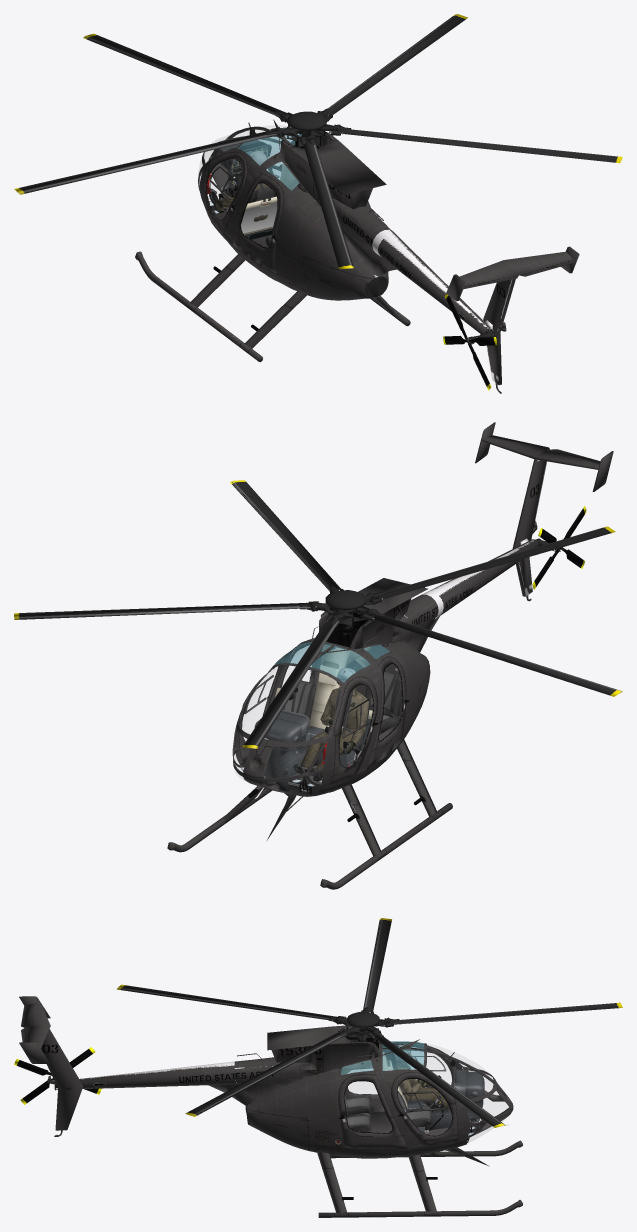
3 views of the same model, one above another, from view 1: azimuth 30°, elevation 25°; view 2: azimuth 150°, elevation 25°; view 3: azimuth 270°, elevation 25° (orthographic). The views are drawn at different scales.
Parts seen in each view (by area): view 1: ext_fuse1, rotor_main, int_fuse, ext_fuse1_doors, ext_fuse1_skids, ixt_seats, glasss_grn, ixt_console, rotor_tail, ixt_pilotR; view 2: ext_fuse1, rotor_main, ext_fuse1_doors, ext_fuse1_skids, int_fuse, ixt_console, ixt_seats, ixt_pilotR, glasss_grn, ixt_seats2, ixt_seats1, glass (+1 smaller); view 3: ext_fuse1, rotor_main, ext_fuse1_doors, int_fuse, ext_fuse1_skids, glass, ixt_console, glasss_grn, ixt_seats2, ixt_pilotR, rotor_tail, ixt_seats1 (+2 smaller).
Part boxes in pixels (left/top/right/bottom): ext_fuse1: left=198, top=119, right=579, bottom=393; rotor_main: left=14, top=14, right=622, bottom=269; int_fuse: left=198, top=128, right=388, bottom=300; ext_fuse1_doors: left=204, top=152, right=283, bottom=273; ext_fuse1_skids: left=135, top=251, right=410, bottom=362; ixt_seats: left=233, top=163, right=299, bottom=239; glasss_grn: left=238, top=128, right=301, bottom=190; ixt_console: left=207, top=139, right=271, bottom=194; rotor_tail: left=443, top=294, right=497, bottom=390; ixt_pilotR: left=209, top=150, right=277, bottom=221; ext_fuse1: left=233, top=422, right=613, bottom=840; rotor_main: left=14, top=480, right=622, bottom=748; ext_fuse1_doors: left=239, top=642, right=409, bottom=783; ext_fuse1_skids: left=167, top=739, right=452, bottom=889; int_fuse: left=232, top=640, right=430, bottom=794; ixt_console: left=254, top=709, right=326, bottom=791; ixt_seats: left=275, top=644, right=372, bottom=767; ixt_pilotR: left=293, top=668, right=369, bottom=781; glasss_grn: left=274, top=638, right=389, bottom=682; ixt_seats2: left=345, top=662, right=402, bottom=734; ixt_seats1: left=283, top=680, right=369, bottom=753; glass: left=234, top=666, right=310, bottom=781; ext_fuse1: left=19, top=996, right=513, bottom=1166; rotor_main: left=117, top=918, right=622, bottom=1127; ext_fuse1_doors: left=338, top=1043, right=458, bottom=1149; int_fuse: left=245, top=1042, right=511, bottom=1158; ext_fuse1_skids: left=317, top=1140, right=522, bottom=1217; glass: left=348, top=1044, right=508, bottom=1143; ixt_console: left=425, top=1069, right=484, bottom=1132; glasss_grn: left=341, top=1041, right=424, bottom=1074; ixt_seats2: left=344, top=1092, right=371, bottom=1132; ixt_pilotR: left=394, top=1043, right=449, bottom=1108; rotor_tail: left=14, top=1047, right=101, bottom=1104; ixt_seats1: left=392, top=1058, right=431, bottom=1127.
Bounding box in the file's own units: 7.48 × 2.89 × 9.2.
12 materials, 11 textured.
